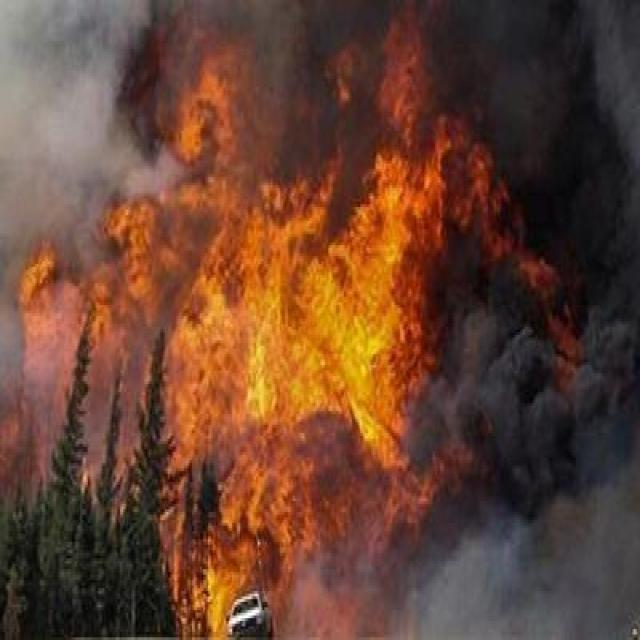fire: (22, 50, 520, 635)
smoke: (422, 2, 630, 626), (117, 6, 586, 126)
